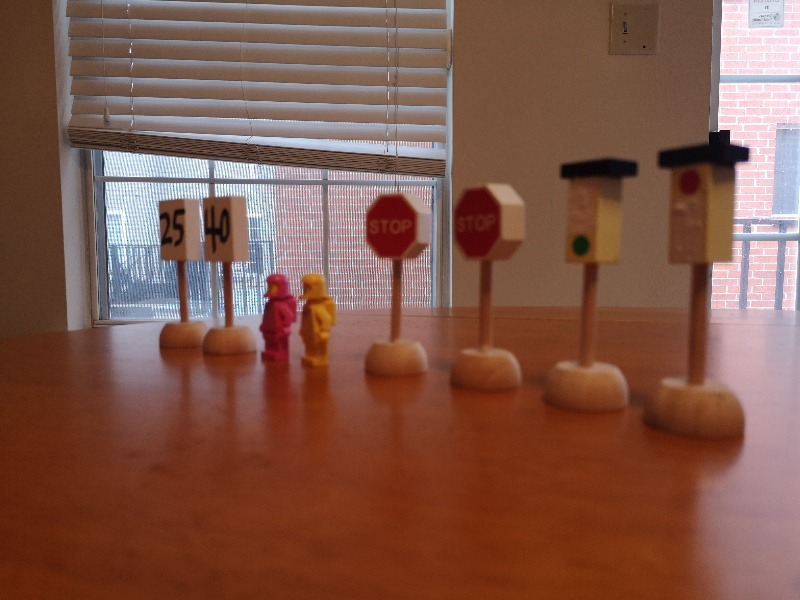Green Traffic Light: (555, 159, 641, 270)
Person: (299, 275, 339, 375), (257, 274, 298, 363)
Red Traffic Light: (655, 145, 751, 275)
Speed Limit 25: (154, 199, 201, 262)
Speed Limit 40: (202, 197, 249, 264)
Stop Sign: (447, 185, 529, 394), (361, 191, 430, 378)
